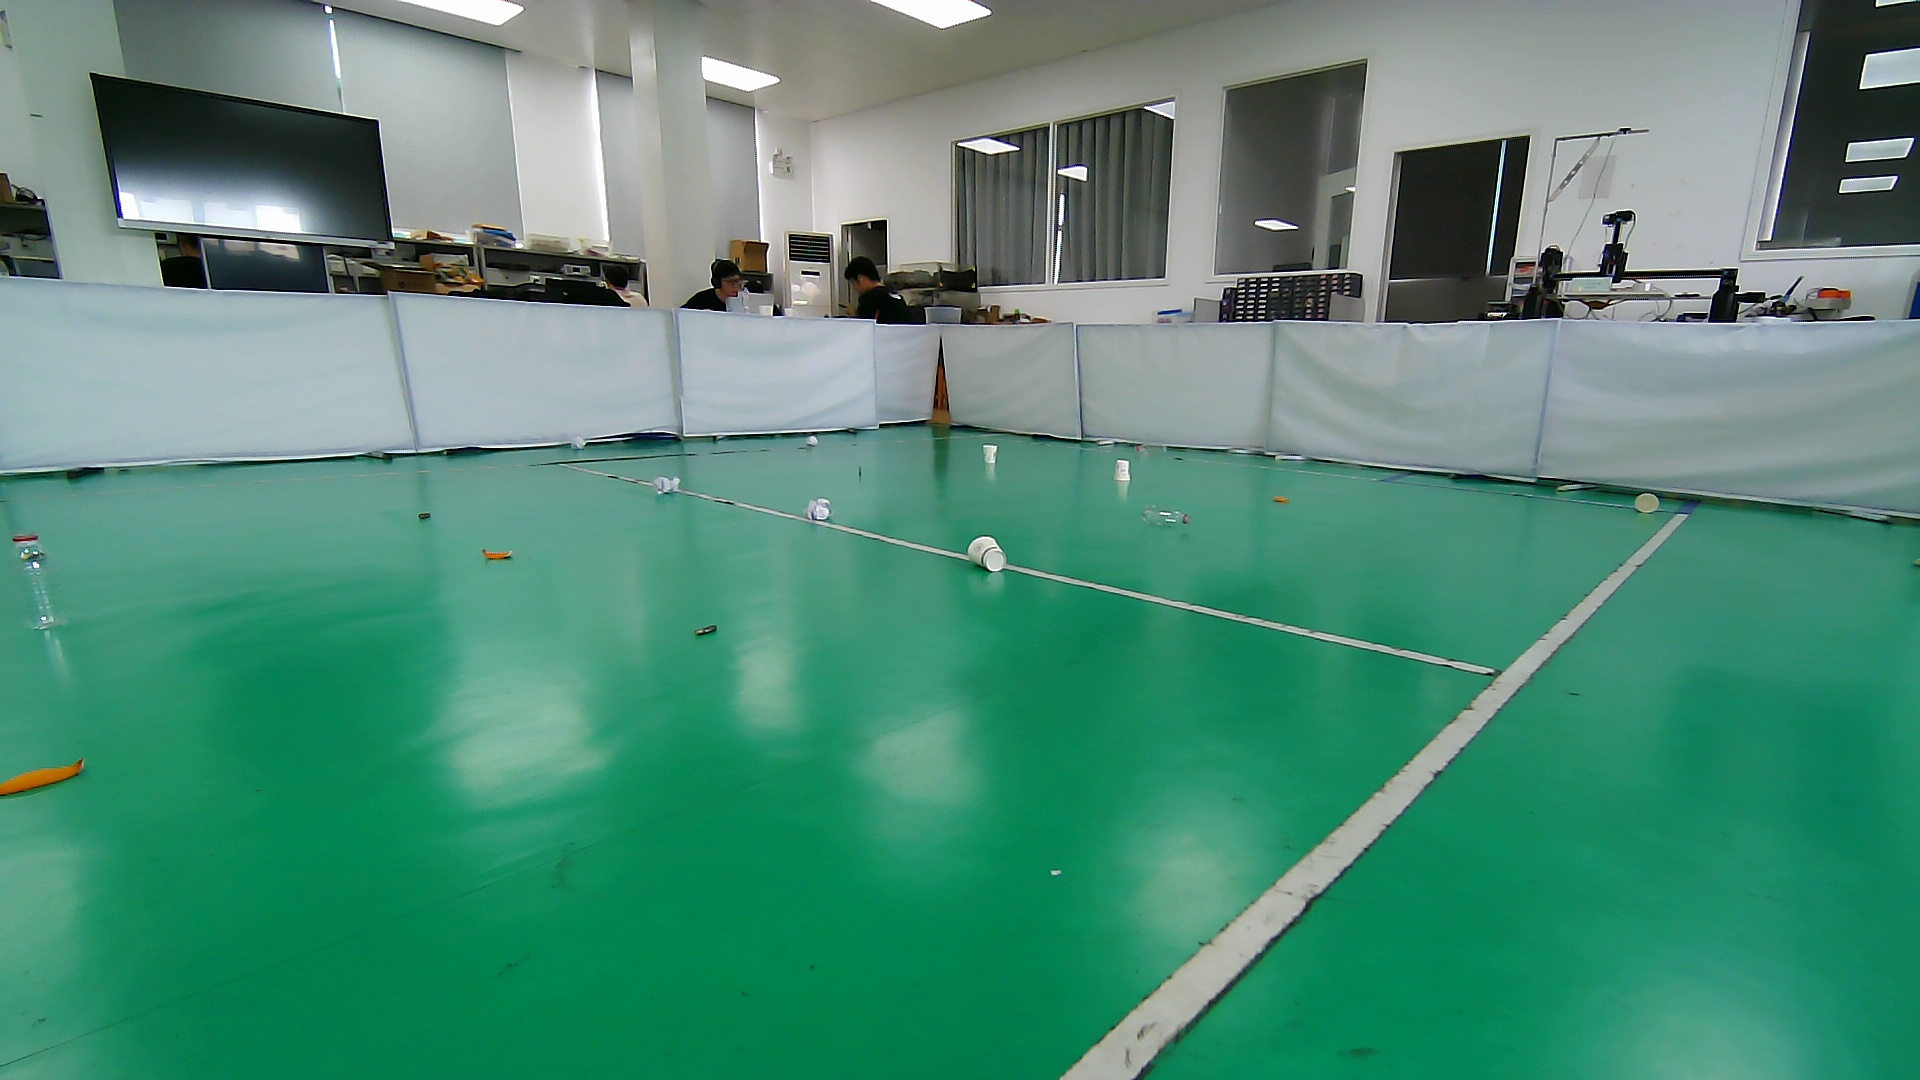battery: (690, 621, 723, 640), (411, 506, 439, 524), (853, 460, 869, 485)
bottle: (1, 530, 74, 634), (1135, 502, 1192, 533)
orangepeel: (1, 750, 91, 808), (475, 541, 520, 568), (1269, 489, 1294, 510)
papercup: (967, 531, 1011, 574), (1109, 458, 1135, 485), (1633, 491, 1662, 514), (978, 440, 1000, 468)
spitball: (804, 495, 833, 524), (654, 473, 682, 498)
